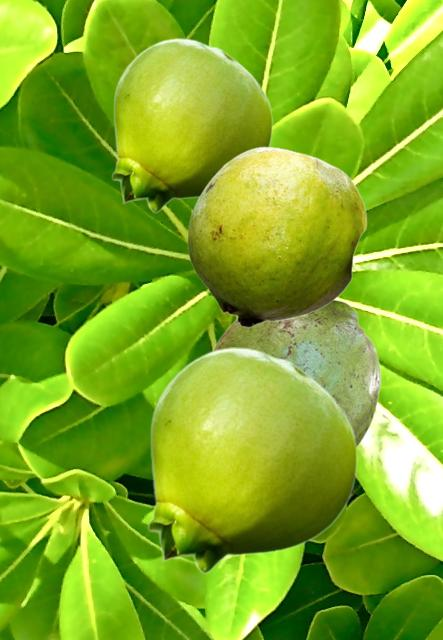guava: (147, 347, 357, 573), (187, 146, 366, 327), (111, 38, 272, 212), (212, 299, 380, 446)
